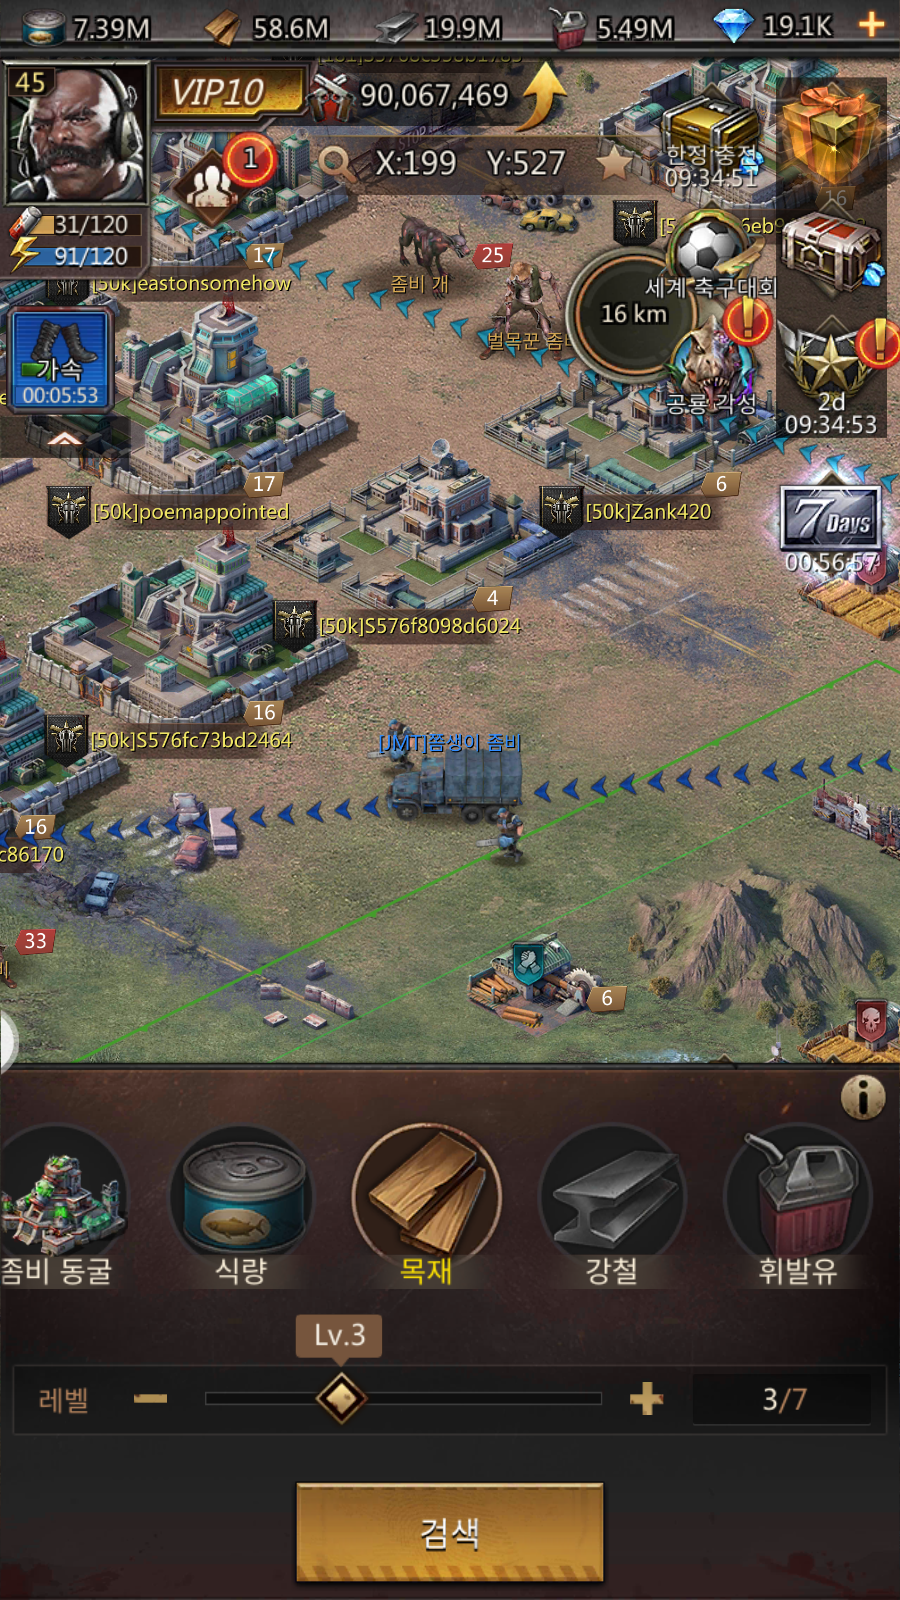rss_food_in_panel: (171, 1125, 315, 1290)
rss_gas_in_panel: (719, 1116, 863, 1296)
rss_lv3: (292, 1313, 384, 1356)
rss_minus_in_panel: (125, 1373, 178, 1422)
rss_plus_in_panel: (620, 1374, 673, 1422)
rss_search_in_panel: (293, 1484, 605, 1580)
rss_steel_in_panel: (542, 1125, 686, 1296)
rss_wood_in_panel: (348, 1120, 509, 1293)
troops_cnt_1: (163, 125, 297, 237)
